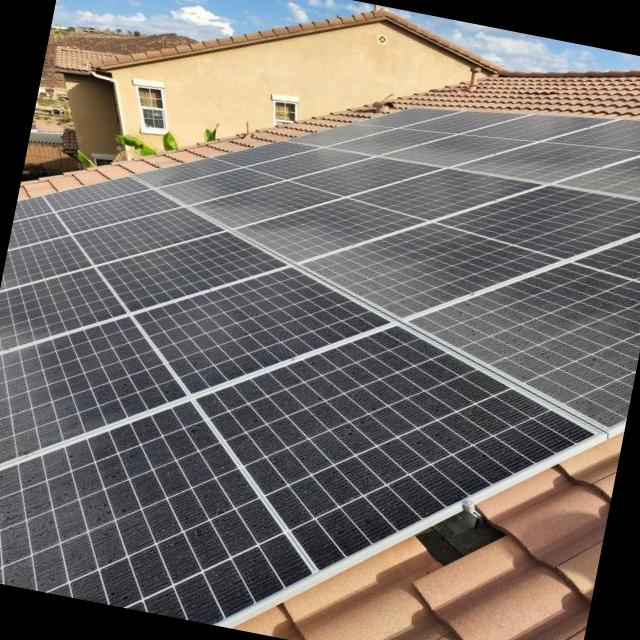faulty: (0, 111, 640, 623)
